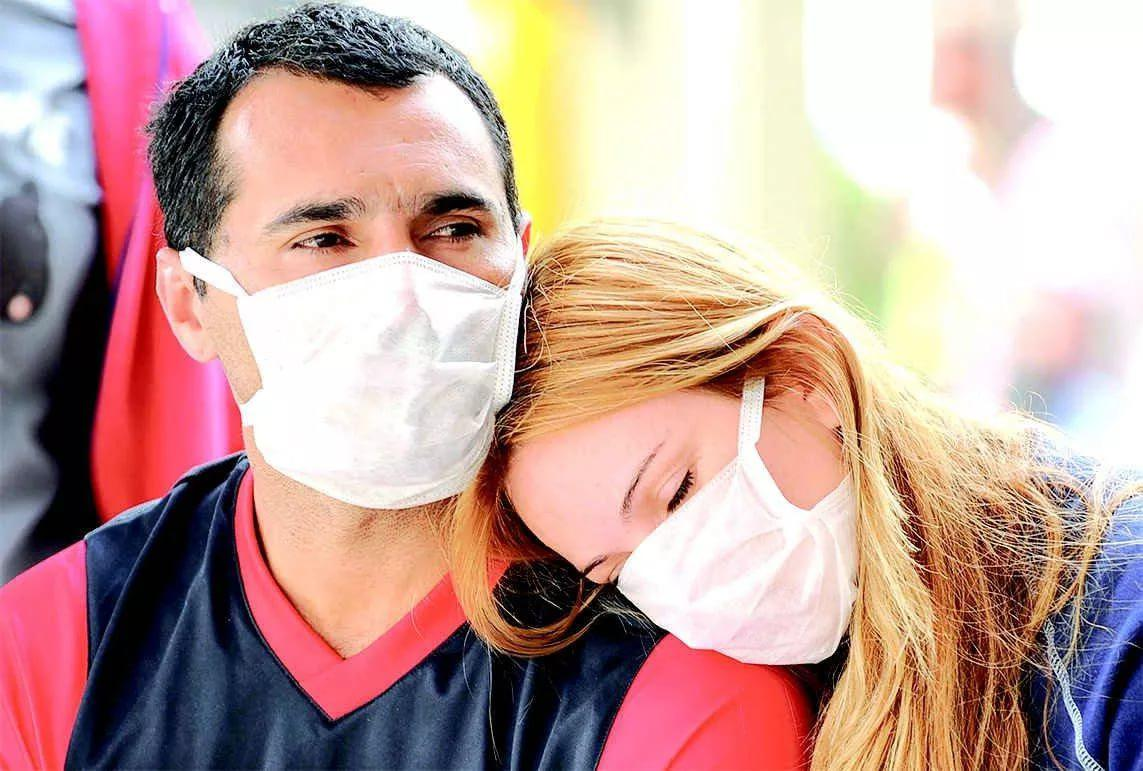mask: (228, 102, 519, 504), (529, 350, 865, 668)
